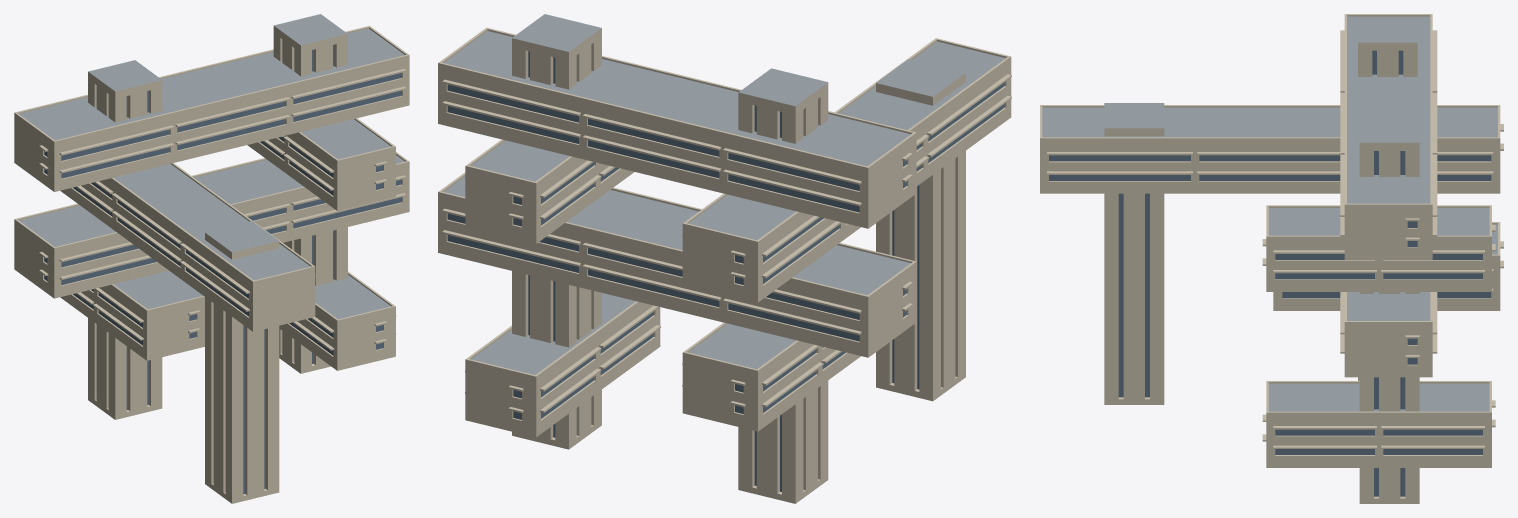
File: tbilisi-bank-of-georgia-hq.glb
3 views of the same model, side by side, from view 1: azimuth 30°, elevation 25°; view 2: azimuth 150°, elevation 25°; view 3: azimuth 270°, elevation 25° (orthographic). The views are drawn at different scales.
Parts seen in each view (by area): view 1: Bank of Georgia Headquarters; view 2: Bank of Georgia Headquarters; view 3: Bank of Georgia Headquarters.
Part boxes in pixels (x1=…): Bank of Georgia Headquarters: x1=14, y1=14, x2=409, y2=503; Bank of Georgia Headquarters: x1=438, y1=14, x2=1011, y2=503; Bank of Georgia Headquarters: x1=1040, y1=14, x2=1503, y2=503.
Bounding box in the file's own units: 76.6 × 66.6 × 77.5.
